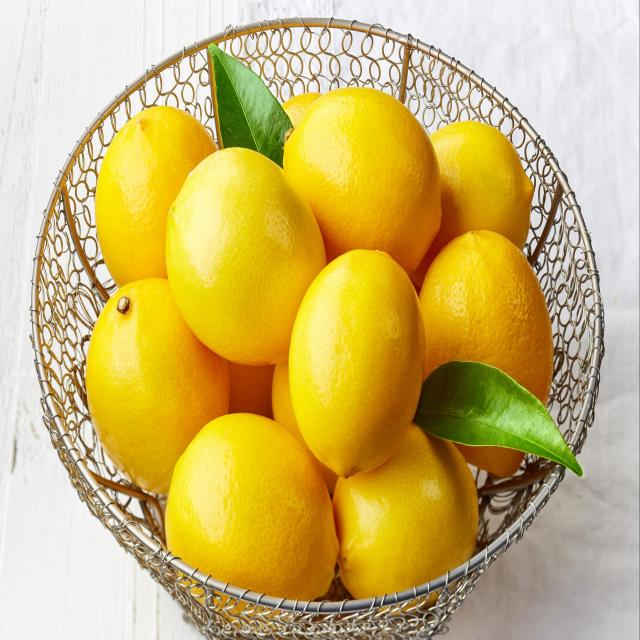lemon: (286, 246, 430, 484)
